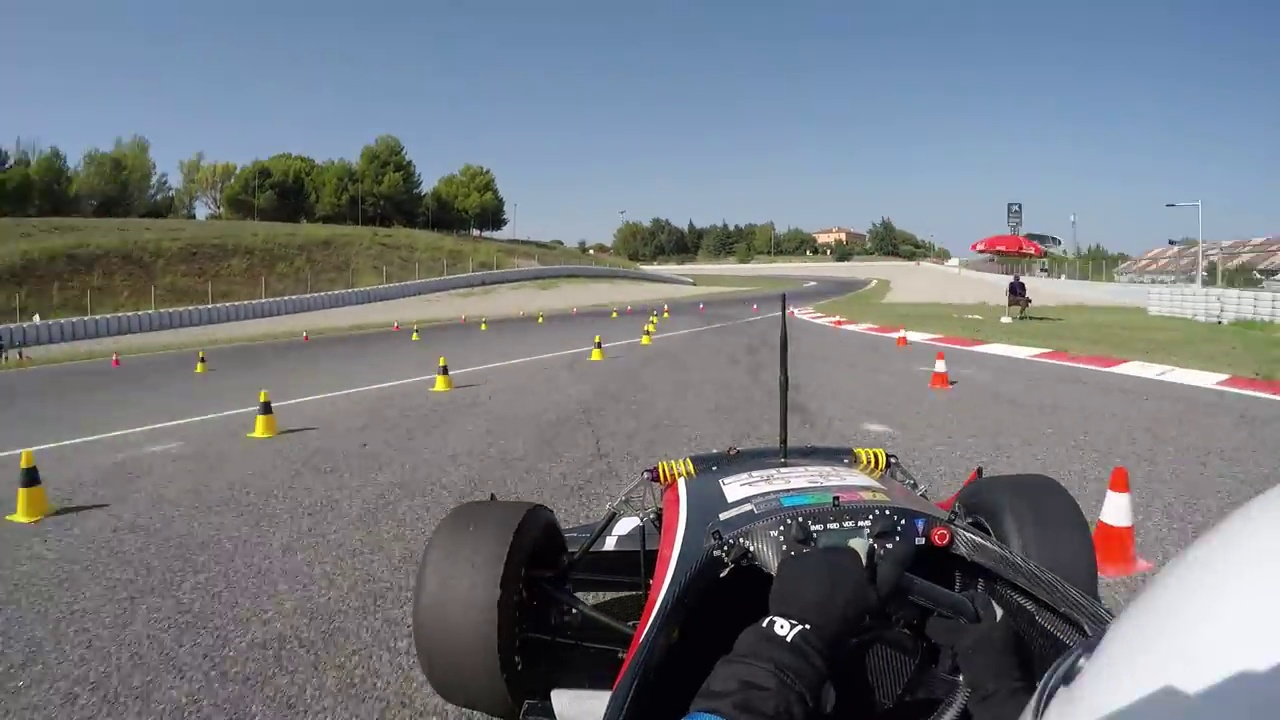Cone: (1086, 464, 1156, 572), (9, 448, 52, 523), (248, 386, 281, 438), (927, 348, 957, 391), (430, 352, 453, 391)
